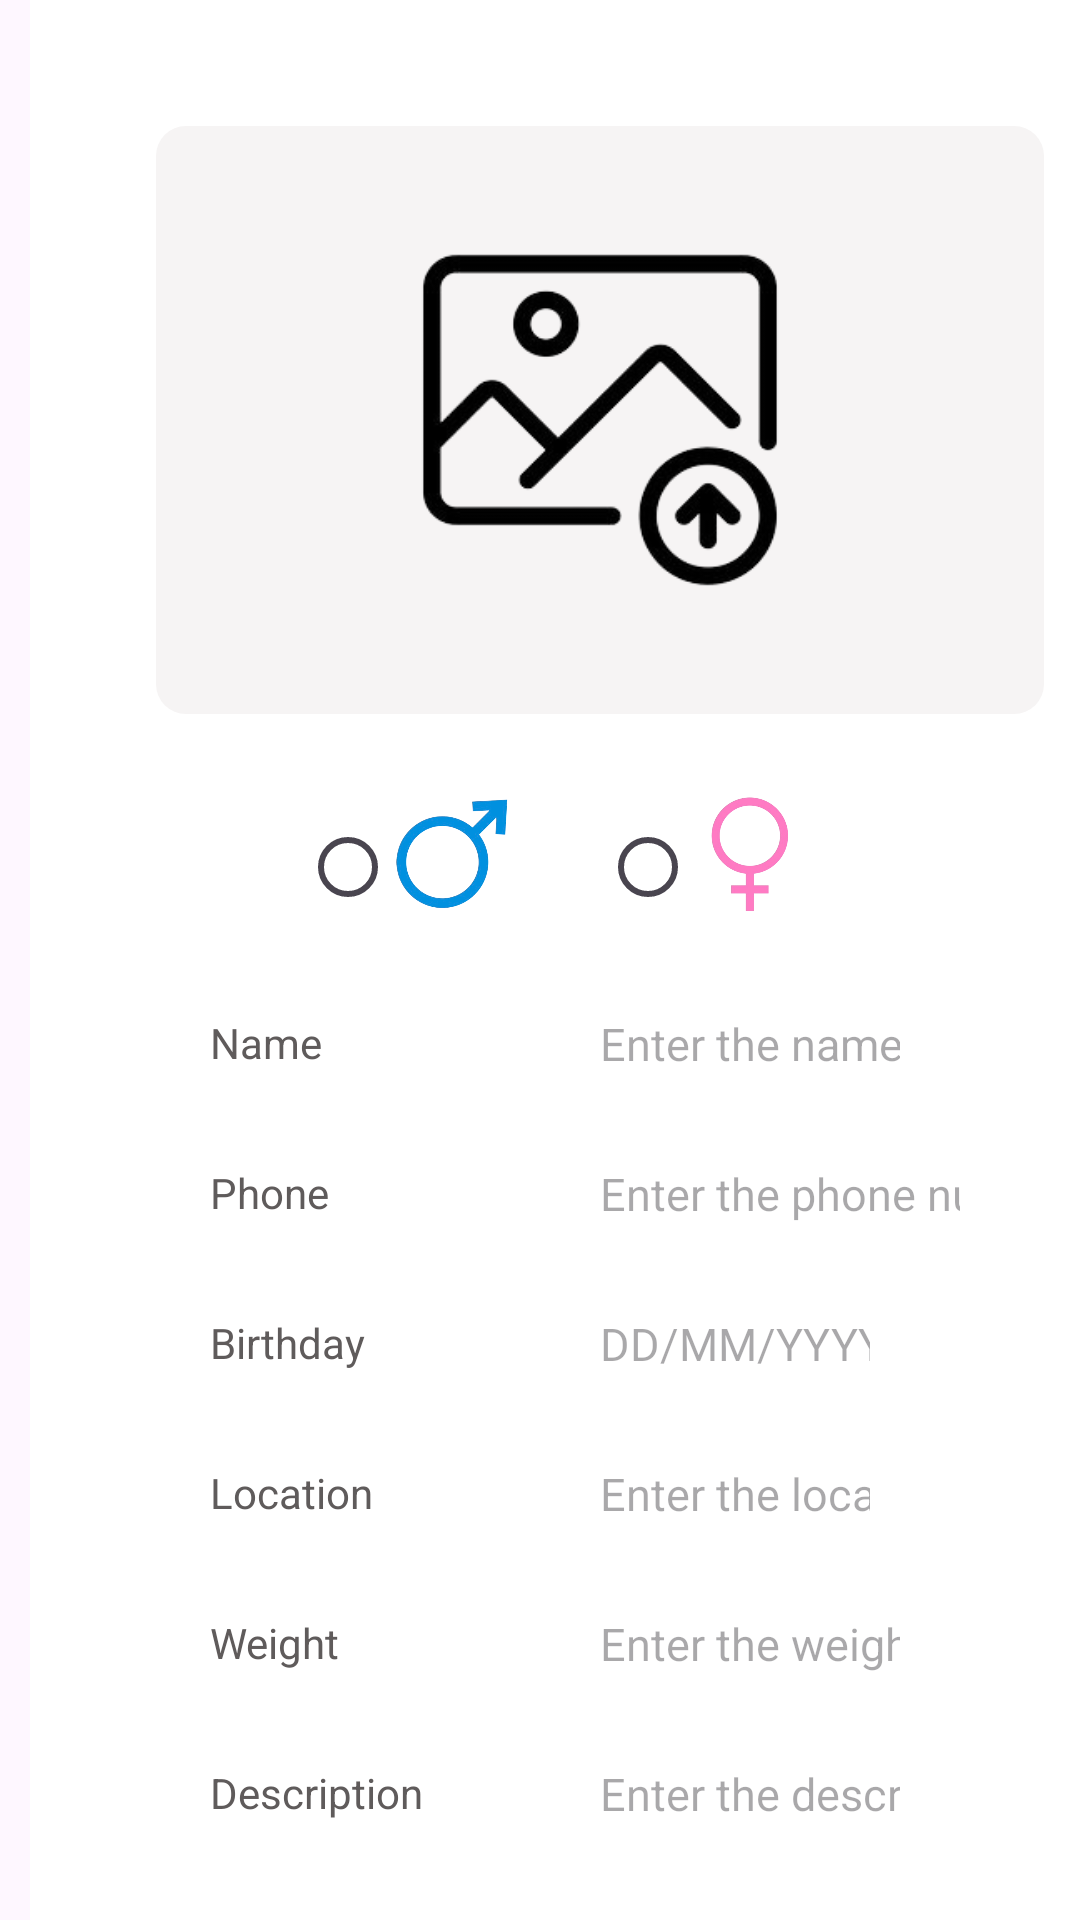

Where to tap for icons on this 1080w x 1920h app screen, as (x=x, y=y):
female: (x=749, y=854)
male: (x=451, y=853)
